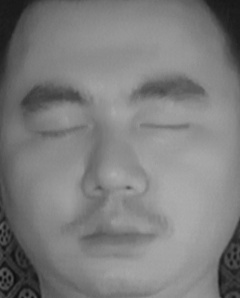blink: (35, 112, 90, 151), (138, 107, 194, 145)
mouth: (75, 203, 163, 263)
